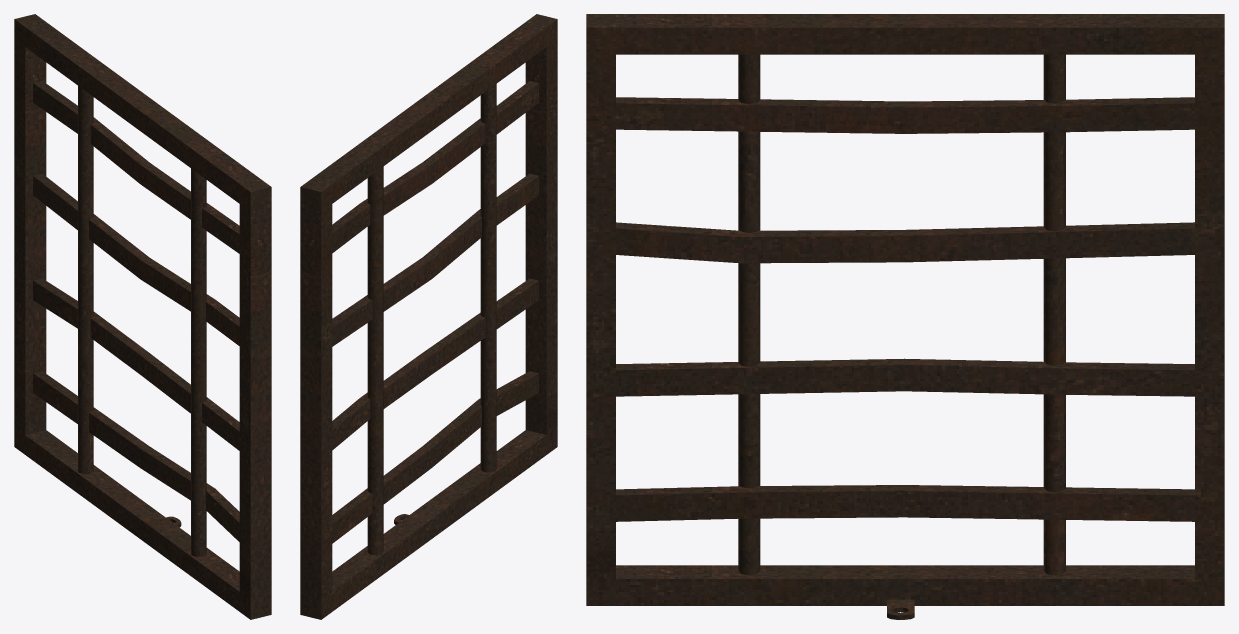
The model's file is grate.glb.
3 renders of one model, left to right at view 1: azimuth 30°, elevation 25°; view 2: azimuth 150°, elevation 25°; view 3: azimuth 270°, elevation 25°, orthographic. The views are drawn at different scales.
Visible parts, largest first — view 1: cage_mx_1_door; view 2: cage_mx_1_door; view 3: cage_mx_1_door.
Boxes of the visible parts, <box> form: cage_mx_1_door: <box>14,14,271,619</box>; cage_mx_1_door: <box>300,14,557,619</box>; cage_mx_1_door: <box>586,14,1224,619</box>.
Size of the model in its own units: 0.1912 by 1.75 by 1.76.
Materials: 1 (1 with a texture image).
